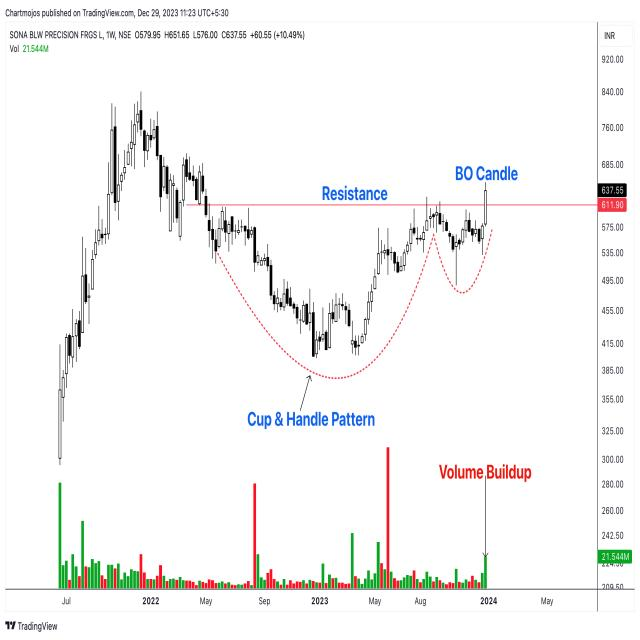Cup-and-handle: (201, 198, 497, 363)
